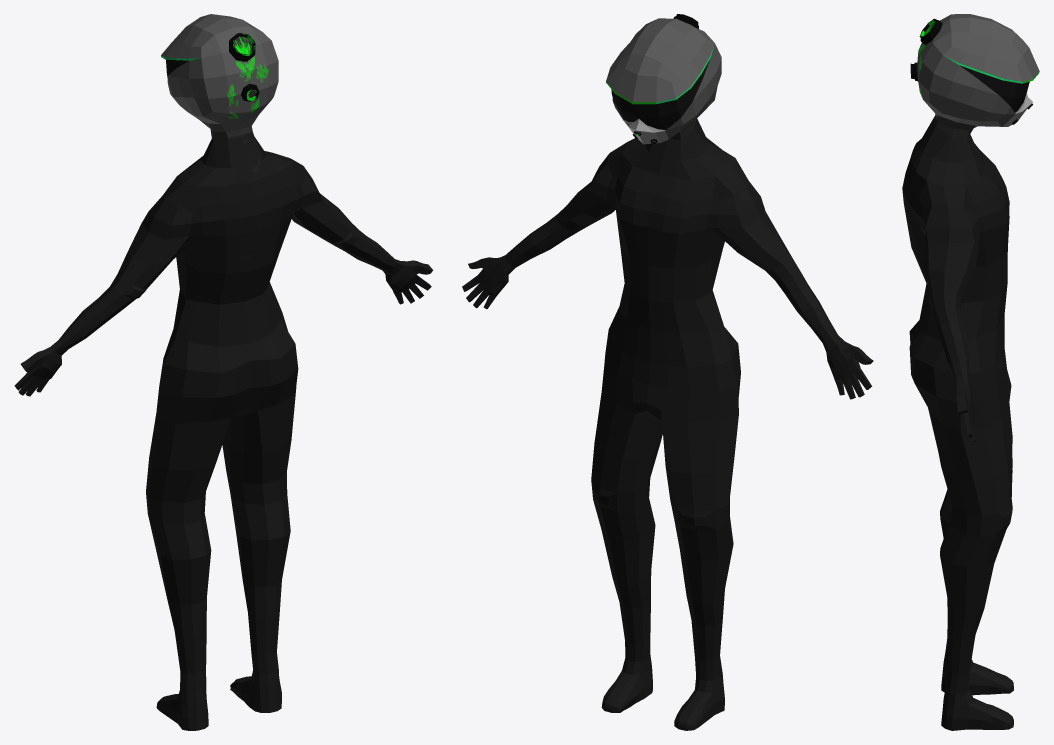
Rendered from Main_Character113.fbx.
3 renders of one model, left to right at view 1: azimuth 30°, elevation 25°; view 2: azimuth 150°, elevation 25°; view 3: azimuth 270°, elevation 25°, orthographic.
Parts seen in each view (by area): view 1: Head; view 2: Head; view 3: Head.
Boxes of the visible parts, box(x1,y1,x2,y2) form: Head: box(14, 14, 433, 730); Head: box(462, 14, 873, 730); Head: box(902, 14, 1039, 730).
Bounding box in the file's own units: 195 × 55.95 × 310.
1 material, 1 textured.
